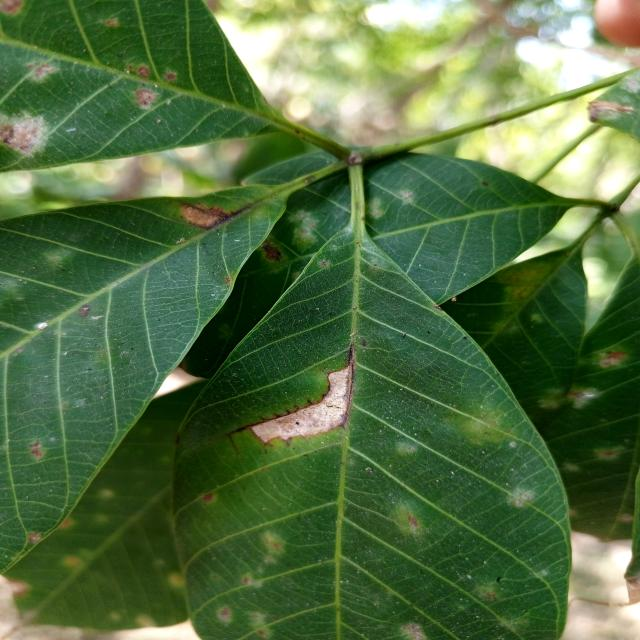Corynespora: (226, 400, 312, 436), (345, 344, 355, 368)
Leaf-Blight: (251, 368, 353, 442), (180, 205, 223, 228)
